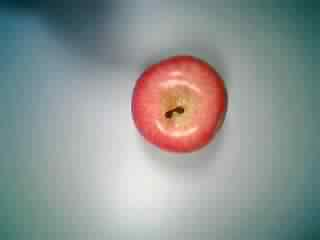apple: (126, 53, 232, 157)
